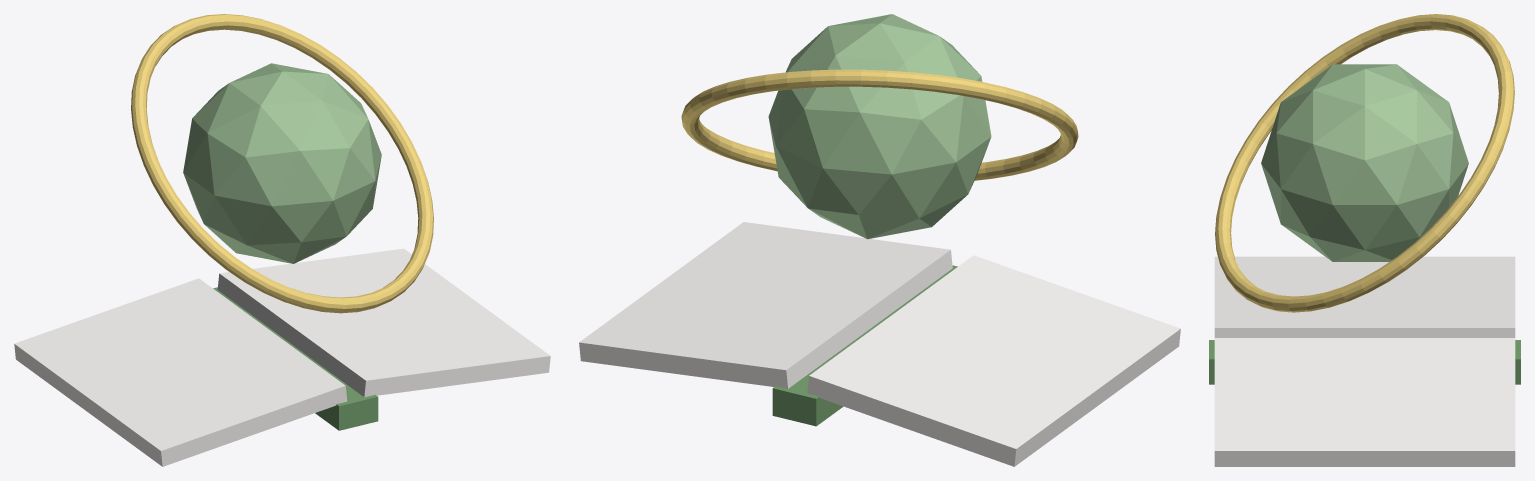
The model's file is study_workspace.glb.
3 views of the same model, side by side, from view 1: azimuth 30°, elevation 25°; view 2: azimuth 150°, elevation 25°; view 3: azimuth 270°, elevation 25° (orthographic). The views are drawn at different scales.
Parts seen in each view (by area): view 1: LeftPage, KnowledgeOrb, RightPage, OrbitalRing, Spine; view 2: LeftPage, RightPage, KnowledgeOrb, OrbitalRing, Spine; view 3: RightPage, KnowledgeOrb, LeftPage, OrbitalRing, Spine.
Boxes of the visible parts, <box> form: LeftPage: <box>14,278,347,466</box>; KnowledgeOrb: <box>183,63,381,263</box>; RightPage: <box>217,248,550,397</box>; OrbitalRing: <box>131,14,433,313</box>; Spine: <box>213,287,378,430</box>; LeftPage: <box>807,255,1180,466</box>; RightPage: <box>579,222,952,388</box>; KnowledgeOrb: <box>768,14,991,239</box>; OrbitalRing: <box>681,69,1078,180</box>; Spine: <box>772,265,957,426</box>; RightPage: <box>1214,338,1515,466</box>; KnowledgeOrb: <box>1261,64,1468,261</box>; LeftPage: <box>1214,256,1515,337</box>; OrbitalRing: <box>1215,14,1514,312</box>; Spine: <box>1209,340,1520,384</box>.
Size of the model in its own units: 1.99 by 1.52 by 1.35.
